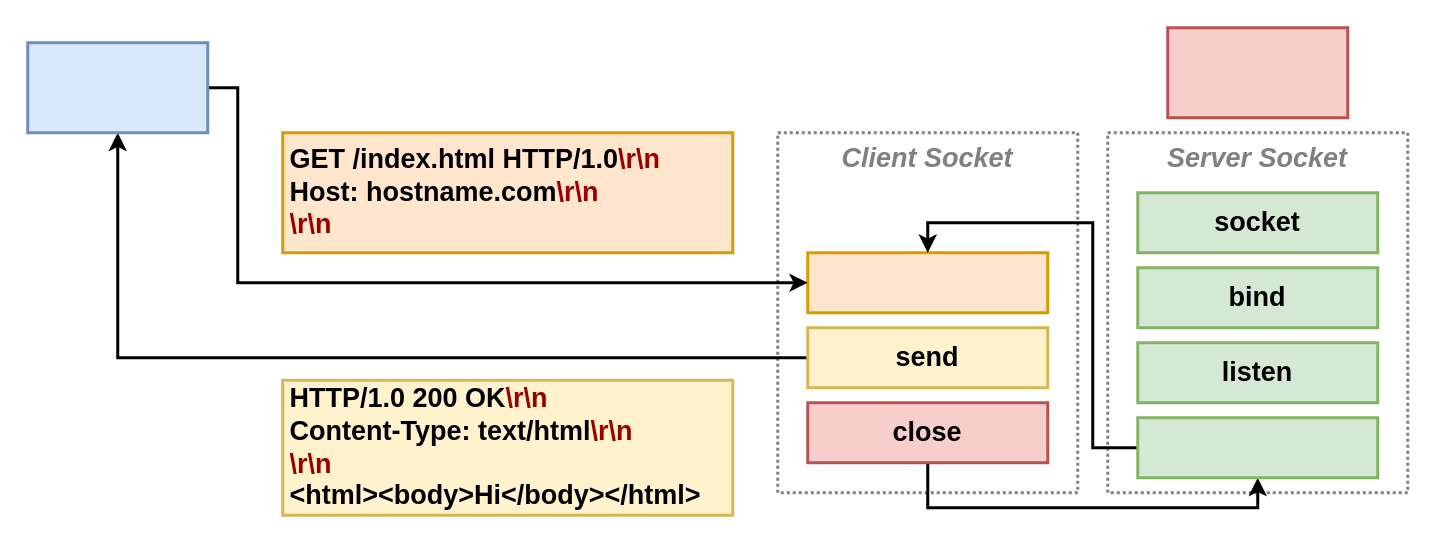
This 1434x546 diagram has some shape labels left out. The centre of each missing label's shape, as x and y in pixels:
"accept" goes at (1257,447).
"HTTP Client" goes at (117,87).
"HTTP Server" goes at (1257,72).
"recv" goes at (927,282).
